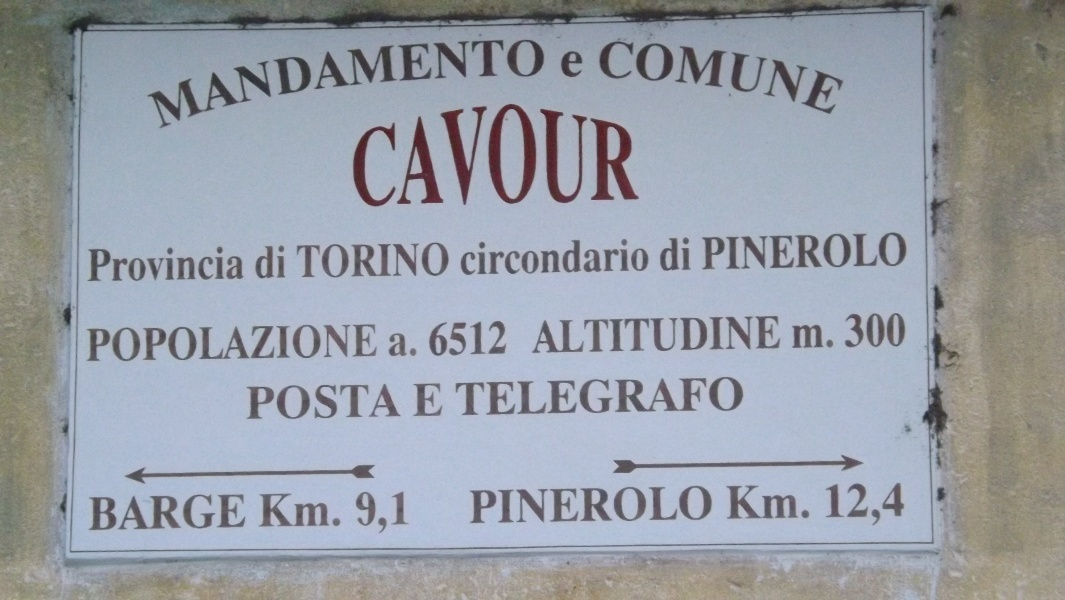text: (353, 96, 368, 211), (369, 96, 384, 211), (385, 96, 400, 211), (401, 96, 416, 211), (417, 96, 432, 211), (433, 96, 448, 211), (449, 96, 464, 211), (465, 96, 480, 211), (481, 96, 496, 211), (497, 96, 512, 211), (513, 96, 528, 211), (529, 96, 544, 211), (545, 96, 560, 211), (561, 96, 576, 211), (577, 96, 592, 211), (593, 96, 608, 211), (609, 96, 624, 211), (625, 96, 640, 211), (129, 20, 144, 132), (145, 20, 160, 132), (161, 20, 176, 132), (177, 20, 192, 132), (193, 20, 208, 132), (209, 20, 224, 132), (225, 20, 240, 132), (241, 20, 256, 132), (257, 20, 272, 132), (273, 20, 288, 132), (289, 20, 304, 132), (305, 20, 320, 132), (321, 20, 336, 132), (337, 20, 352, 132), (353, 20, 368, 132), (369, 20, 384, 132), (385, 20, 400, 132), (401, 20, 416, 132), (417, 20, 432, 132), (433, 20, 448, 132), (449, 20, 464, 132), (465, 20, 480, 132), (481, 20, 496, 132), (497, 20, 512, 132), (513, 20, 528, 132), (529, 20, 544, 132), (641, 96, 655, 211), (593, 23, 608, 119), (609, 23, 624, 119), (625, 23, 640, 119), (641, 23, 656, 119), (657, 23, 672, 119), (673, 23, 688, 119), (689, 23, 704, 119), (705, 23, 720, 119), (721, 23, 736, 119), (737, 23, 752, 119), (753, 23, 768, 119), (769, 23, 784, 119), (785, 23, 800, 119), (801, 23, 816, 119), (817, 23, 832, 119), (833, 23, 848, 119), (545, 20, 556, 132), (849, 23, 858, 119), (833, 478, 848, 531), (849, 478, 864, 531), (865, 478, 880, 531), (881, 478, 896, 531), (353, 488, 368, 535), (369, 488, 384, 535), (385, 488, 400, 535), (705, 228, 720, 274), (721, 228, 736, 274), (737, 228, 752, 274), (753, 228, 768, 274), (769, 228, 784, 274), (785, 228, 800, 274), (801, 228, 816, 274), (817, 228, 832, 274), (833, 228, 848, 274), (849, 228, 864, 274), (865, 228, 880, 274), (881, 228, 896, 274), (897, 478, 910, 531), (97, 320, 112, 365), (113, 320, 128, 365), (129, 320, 144, 365), (145, 320, 160, 365), (161, 320, 176, 365), (177, 320, 192, 365), (193, 320, 208, 365), (209, 320, 224, 365), (225, 320, 240, 365), (241, 320, 256, 365), (257, 320, 272, 365), (273, 320, 288, 365), (289, 320, 304, 365), (305, 320, 320, 365), (321, 320, 336, 365), (337, 320, 352, 365), (353, 320, 368, 365), (369, 320, 384, 365), (257, 379, 272, 423), (273, 379, 288, 423), (289, 379, 304, 423), (305, 379, 320, 423), (321, 379, 336, 423), (337, 379, 352, 423), (353, 379, 368, 423), (369, 379, 384, 423), (385, 379, 400, 423), (465, 375, 480, 419), (481, 375, 496, 419), (497, 375, 512, 419), (513, 375, 528, 419), (529, 375, 544, 419), (545, 375, 560, 419), (561, 375, 576, 419), (577, 375, 592, 419), (593, 375, 608, 419), (609, 375, 624, 419), (625, 375, 640, 419), (641, 375, 656, 419), (657, 375, 672, 419), (673, 375, 688, 419), (689, 375, 704, 419), (705, 375, 720, 419), (721, 375, 736, 419), (97, 491, 112, 535), (113, 491, 128, 535), (129, 491, 144, 535), (145, 491, 160, 535), (161, 491, 176, 535), (177, 491, 192, 535), (193, 491, 208, 535), (209, 491, 224, 535), (225, 491, 240, 535), (545, 313, 560, 356), (561, 313, 576, 356), (577, 313, 592, 356), (593, 313, 608, 356), (609, 313, 624, 356), (625, 313, 640, 356), (641, 313, 656, 356), (657, 313, 672, 356), (673, 313, 688, 356), (689, 313, 704, 356), (705, 313, 720, 356), (721, 313, 736, 356), (737, 313, 752, 356), (753, 313, 768, 356), (769, 313, 784, 356), (97, 243, 112, 285), (113, 243, 128, 285), (129, 243, 144, 285), (145, 243, 160, 285), (161, 243, 176, 285), (177, 243, 192, 285), (193, 243, 208, 285), (209, 243, 224, 285), (225, 243, 240, 285), (257, 242, 272, 284), (273, 242, 288, 284), (305, 240, 320, 282), (321, 240, 336, 282), (337, 240, 352, 282), (353, 240, 368, 282), (369, 240, 384, 282), (385, 240, 400, 282), (401, 240, 416, 282), (417, 240, 432, 282), (433, 240, 448, 282), (465, 237, 480, 278), (481, 237, 496, 278), (497, 237, 512, 278), (513, 237, 528, 278), (529, 237, 544, 278), (545, 237, 560, 278), (561, 237, 576, 278), (577, 237, 592, 278), (593, 237, 608, 278), (609, 237, 624, 278), (625, 237, 640, 278), (257, 490, 272, 531), (273, 490, 288, 531), (289, 490, 304, 531), (305, 490, 320, 531), (321, 490, 336, 531), (481, 485, 496, 526), (497, 485, 512, 526), (513, 485, 528, 526), (529, 485, 544, 526), (545, 485, 560, 526), (561, 485, 576, 526), (577, 485, 592, 526), (593, 485, 608, 526), (609, 485, 624, 526), (625, 485, 640, 526), (641, 485, 656, 526), (657, 485, 672, 526), (673, 485, 688, 526), (689, 485, 704, 526), (433, 319, 448, 359), (449, 319, 464, 359), (465, 319, 480, 359), (481, 319, 496, 359), (849, 310, 864, 350), (865, 310, 880, 350), (881, 310, 896, 350), (897, 228, 910, 274), (673, 235, 688, 274), (83, 320, 96, 365), (347, 96, 352, 211), (737, 375, 750, 419), (417, 382, 432, 420), (737, 483, 752, 521), (753, 483, 768, 521), (769, 483, 784, 521), (785, 483, 800, 521), (401, 488, 413, 535), (497, 319, 511, 359), (658, 235, 672, 274), (467, 485, 480, 526), (822, 478, 832, 531), (244, 379, 256, 423), (452, 375, 464, 419), (897, 310, 910, 350), (84, 243, 96, 285), (433, 382, 446, 420), (723, 483, 736, 521), (561, 50, 576, 81), (293, 240, 304, 282), (801, 483, 813, 521), (641, 237, 652, 278), (705, 485, 716, 526), (86, 491, 96, 535), (241, 491, 251, 535), (401, 332, 416, 361), (801, 322, 816, 351), (817, 322, 832, 351), (386, 332, 400, 361), (577, 50, 590, 81), (337, 490, 345, 531), (790, 322, 800, 351), (589, 23, 592, 119), (698, 228, 704, 274), (401, 379, 407, 423), (241, 243, 247, 285), (842, 310, 848, 350), (449, 240, 454, 282), (459, 237, 464, 278), (427, 319, 432, 359), (689, 235, 694, 274), (540, 313, 544, 356), (252, 242, 256, 284), (412, 382, 416, 420), (417, 332, 421, 361), (127, 20, 128, 132), (833, 322, 836, 351), (785, 313, 786, 356), (289, 242, 290, 284)
